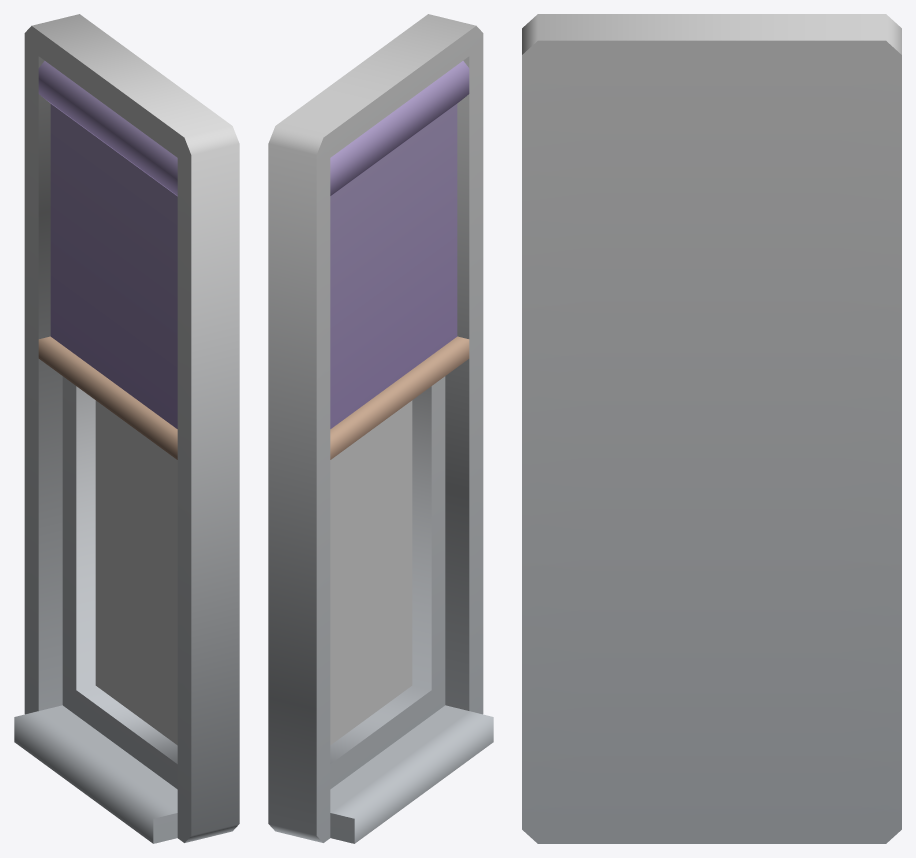
Rendered from window-shutters-medium (%wall).glb.
3 views of the same model, side by side, from view 1: azimuth 30°, elevation 25°; view 2: azimuth 150°, elevation 25°; view 3: azimuth 270°, elevation 25° (orthographic). The views are drawn at different scales.
Visible parts, largest first — view 1: window-shutters-medium (%wall); view 2: window-shutters-medium (%wall); view 3: window-shutters-medium (%wall).
Part boxes in pixels (box(x1,y1,x2,y2)): window-shutters-medium (%wall): box(14, 14, 239, 843); window-shutters-medium (%wall): box(268, 14, 493, 843); window-shutters-medium (%wall): box(522, 14, 901, 843).
Size of the model in its own units: 0.15 by 1.4 by 0.6.
